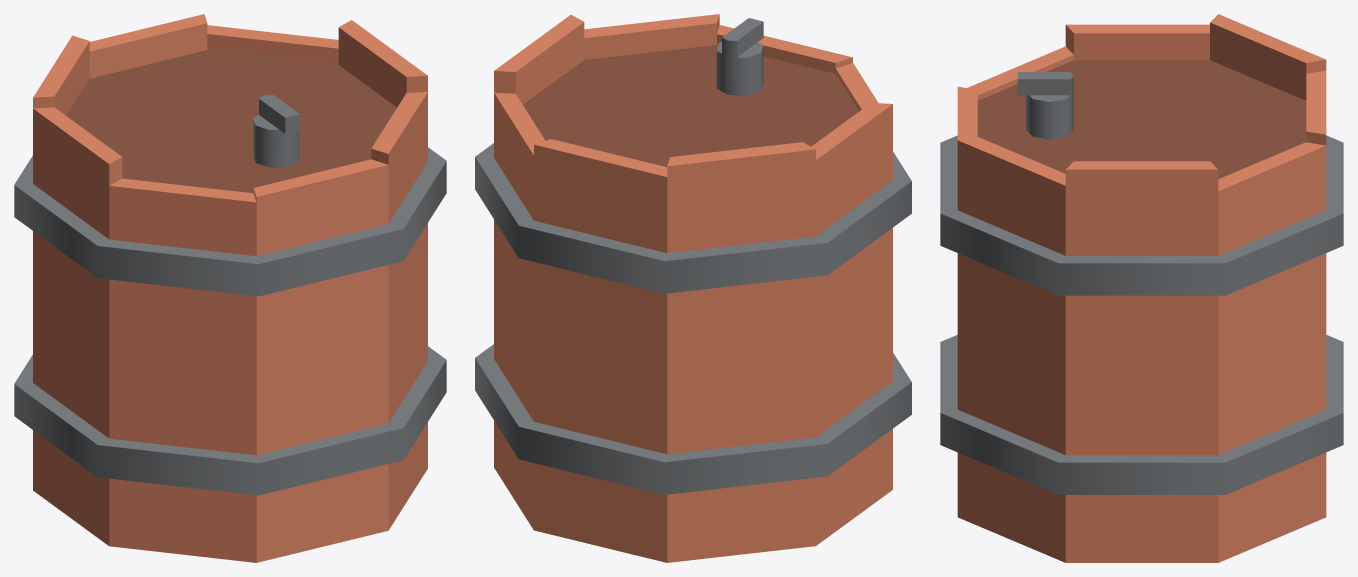
The model's file is barrel.fbx.
The picture shows the model from 3 angles, left to right: view 1: azimuth 30°, elevation 25°; view 2: azimuth 150°, elevation 25°; view 3: azimuth 270°, elevation 25°; orthographic projection.
Parts seen in each view (by area): view 1: barrel.001; view 2: barrel.001; view 3: barrel.001.
Boxes of the visible parts, x1=… form: barrel.001: x1=14, y1=14, x2=446, y2=562; barrel.001: x1=475, y1=14, x2=911, y2=562; barrel.001: x1=940, y1=14, x2=1343, y2=562.
Size of the model in its own units: 67.89 by 76 by 67.89.
